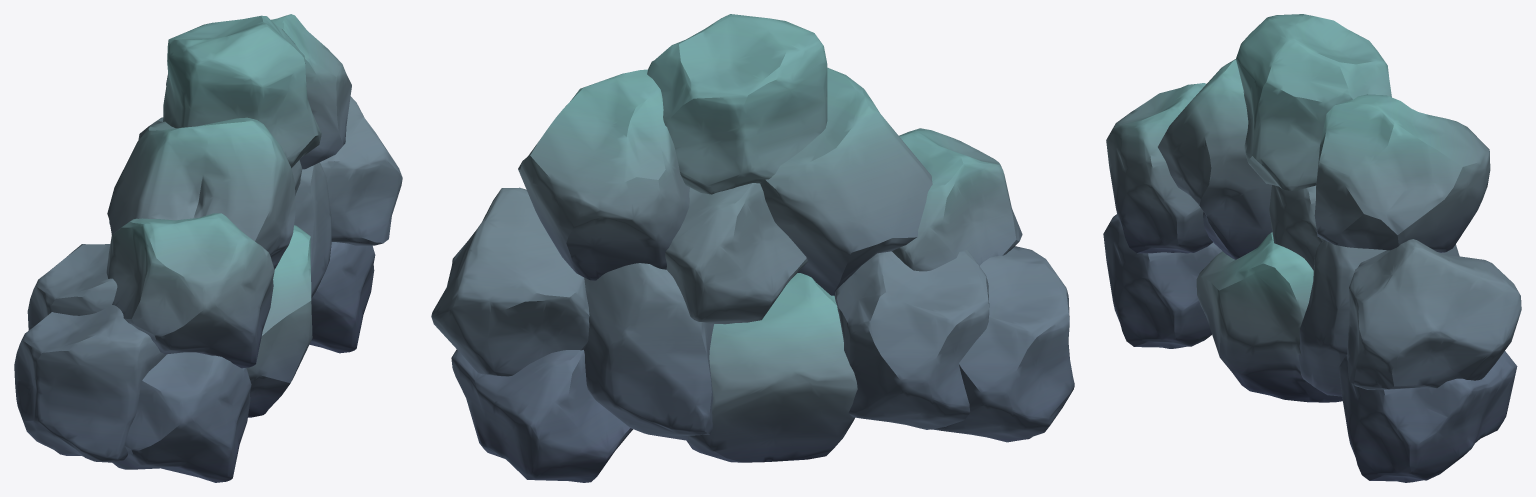
The model's file is SM_Hill_RockWall_03.fbx.
3 renders of one model, left to right at view 1: azimuth 30°, elevation 25°; view 2: azimuth 150°, elevation 25°; view 3: azimuth 270°, elevation 25°, orthographic. The views are drawn at different scales.
Parts seen in each view (by area): view 1: StoneWall; view 2: StoneWall; view 3: StoneWall.
Boxes of the visible parts, left/top/right/bottom form: StoneWall: left=14, top=14, right=402, bottom=482; StoneWall: left=431, top=14, right=1074, bottom=482; StoneWall: left=1103, top=14, right=1521, bottom=482.
Size of the model in its own units: 2281 by 1897 by 1856.
Materials: 1 (1 with a texture image).
